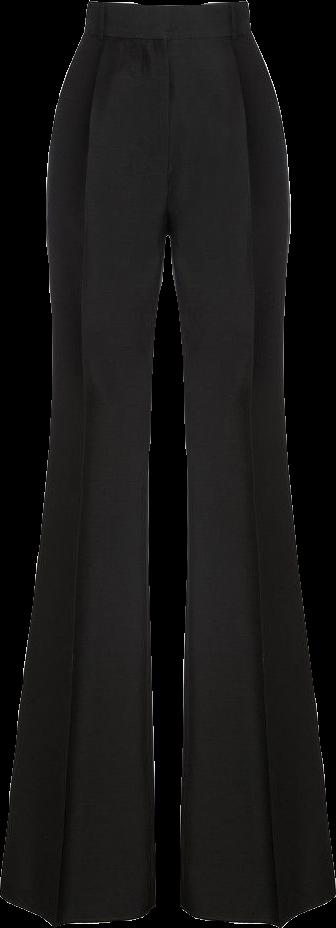Hemline: (0, 889, 160, 927), (178, 893, 335, 926)
Pantleg: (166, 1, 334, 926), (1, 0, 165, 925)
Waistline: (82, 27, 253, 46), (83, 0, 248, 13)
